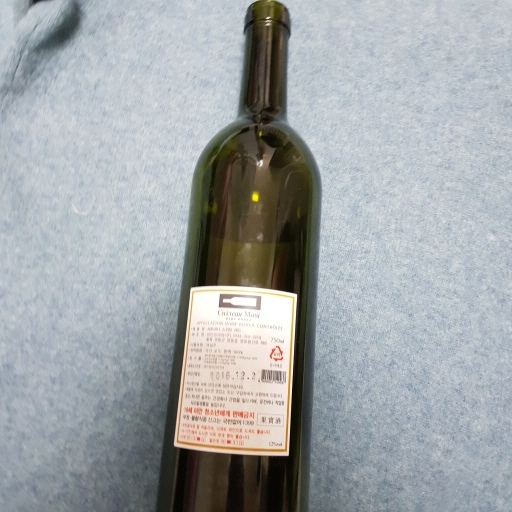Glass_2: (145, 1, 328, 512)
